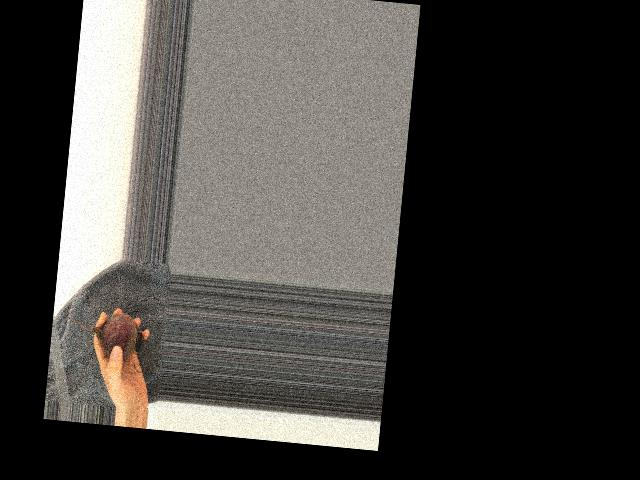beet: (63, 307, 144, 362)
